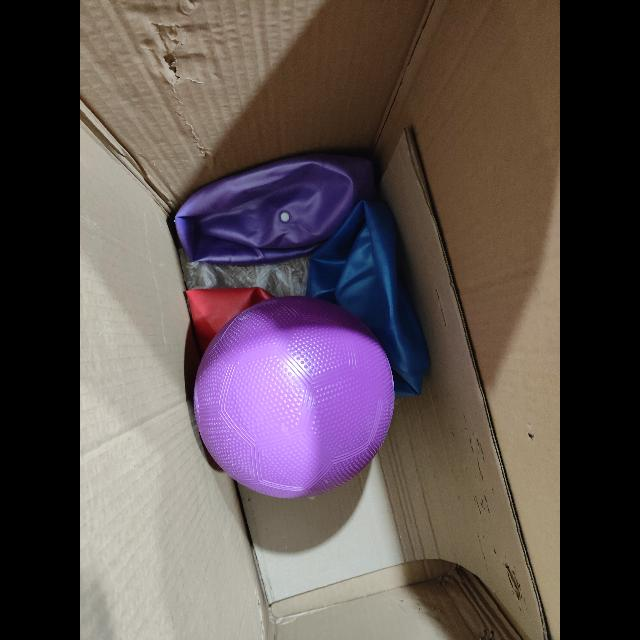P: (192, 296, 396, 498)
